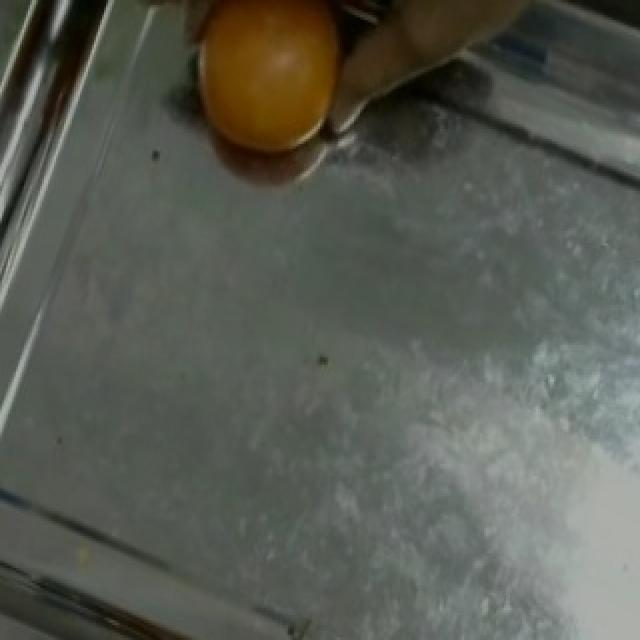Fruit: (162, 0, 366, 179)
